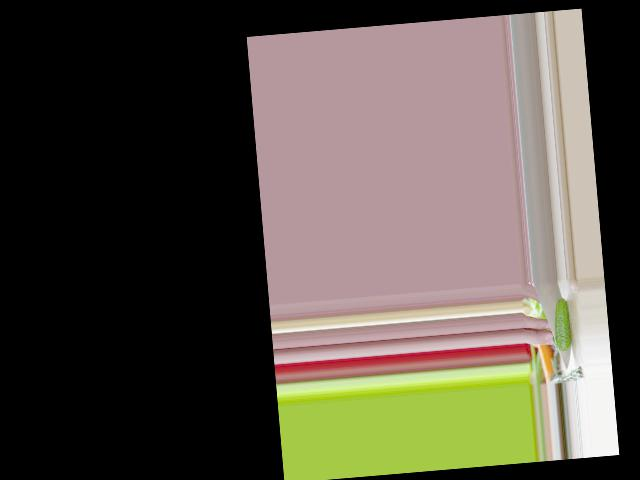cucumber: (552, 298, 572, 352)
